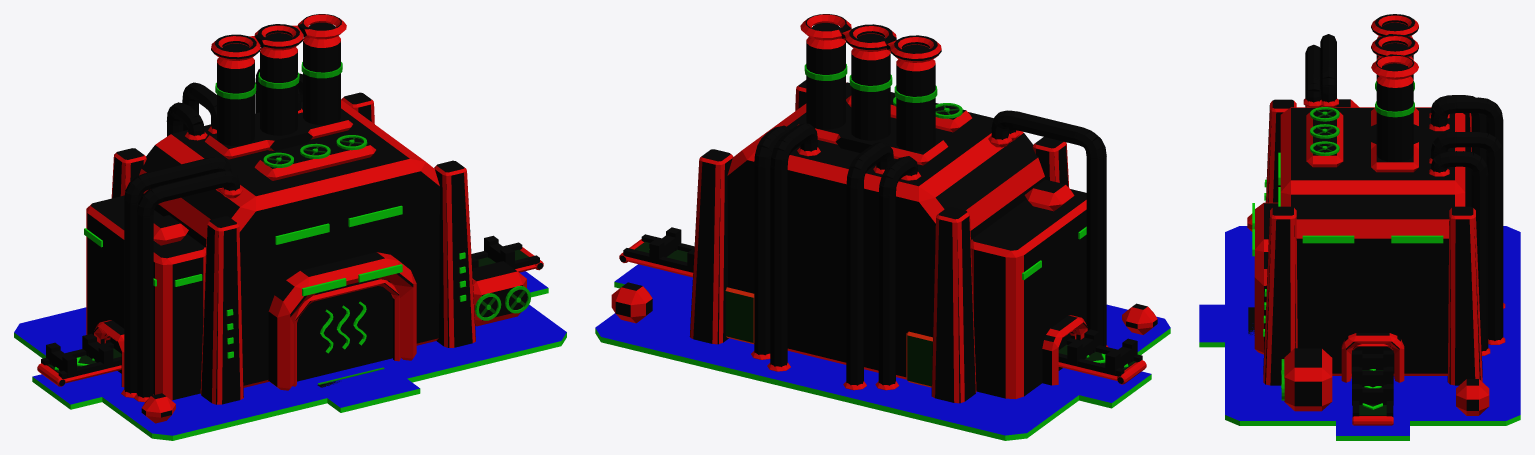
The model's file is SM_Holo_Smelter_T3_Mini.fbx.
3 renders of one model, left to right at view 1: azimuth 30°, elevation 25°; view 2: azimuth 150°, elevation 25°; view 3: azimuth 270°, elevation 25°, orthographic. The views are drawn at different scales.
Visible parts, largest first — view 1: SM_Holo_Smelter_T3_Mini; view 2: SM_Holo_Smelter_T3_Mini; view 3: SM_Holo_Smelter_T3_Mini.
Part boxes in pixels (left/top/right/bottom): SM_Holo_Smelter_T3_Mini: left=14, top=14, right=566, bottom=440; SM_Holo_Smelter_T3_Mini: left=595, top=14, right=1170, bottom=440; SM_Holo_Smelter_T3_Mini: left=1199, top=14, right=1520, bottom=440.
Size of the model in its own units: 29.31 by 17.07 by 17.4.
